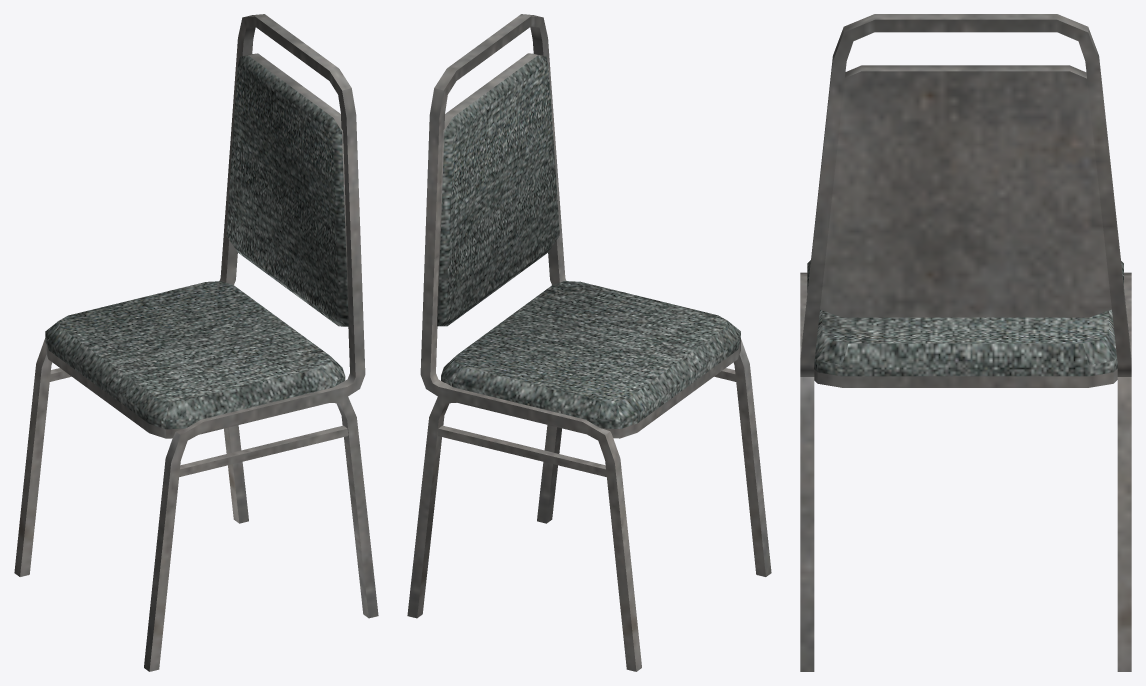
The model's file is chair.glb.
3 renders of one model, left to right at view 1: azimuth 30°, elevation 25°; view 2: azimuth 150°, elevation 25°; view 3: azimuth 270°, elevation 25°, orthographic. The views are drawn at different scales.
Parts seen in each view (by area): view 1: Chair.-col; view 2: Chair.-col; view 3: Chair.-col.
Part boxes in pixels (box(x1,y1,x2,y2)): Chair.-col: box(14, 14, 378, 671); Chair.-col: box(407, 14, 771, 671); Chair.-col: box(800, 14, 1131, 671).
Size of the model in its own units: 0.5477 by 1.21 by 0.5592.
1 material, 1 textured.
